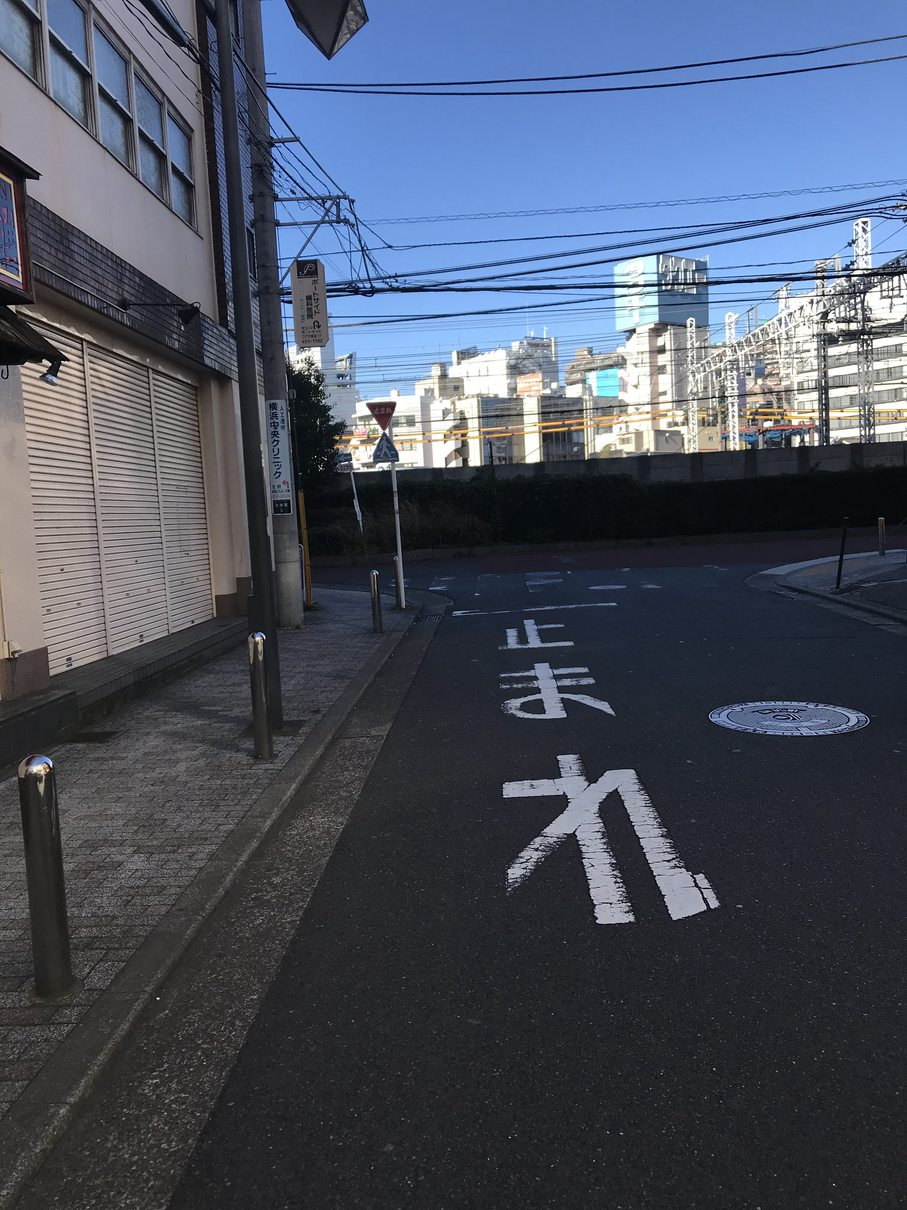stop_sign: (366, 400, 397, 430)
